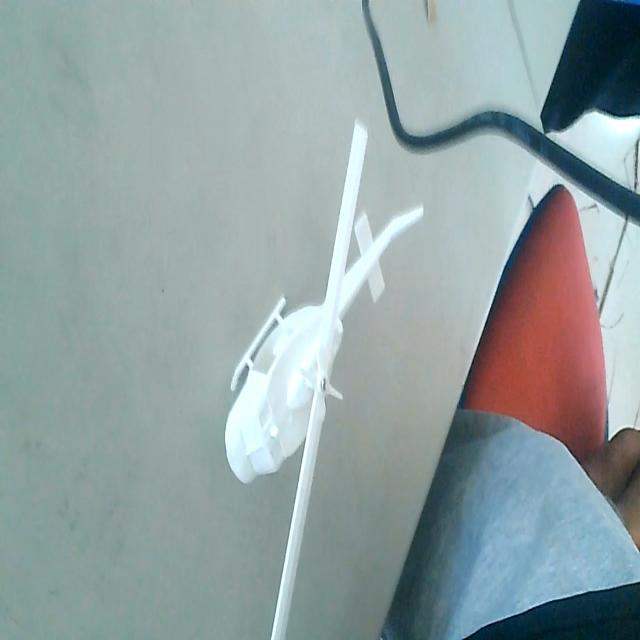Helicopter: (224, 115, 425, 640)
